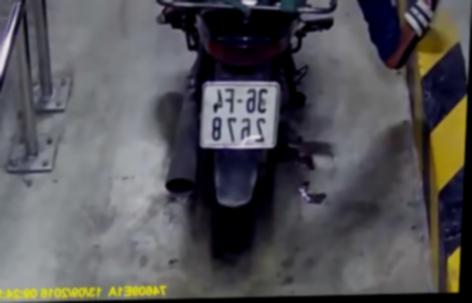License_Plate: (195, 78, 286, 158)
